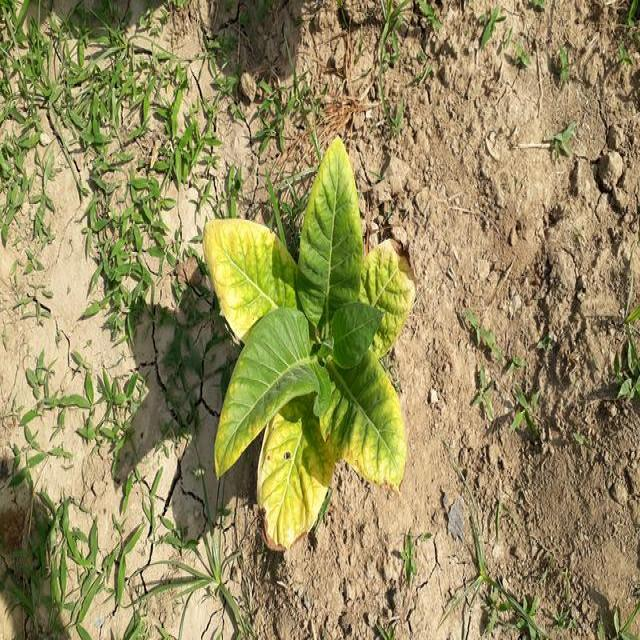crop: (190, 148, 412, 532)
